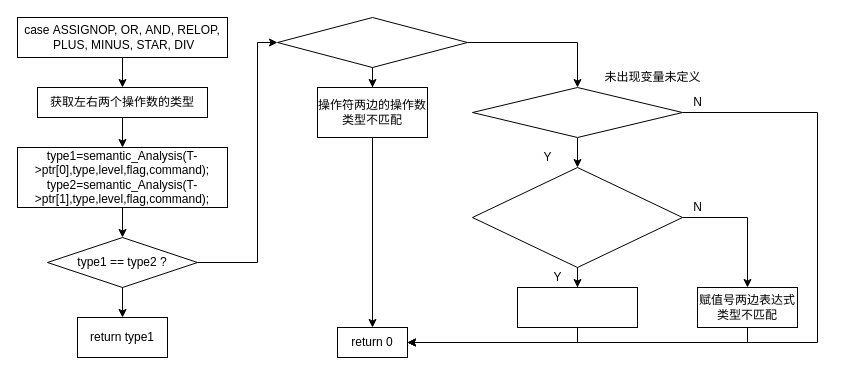
Image size: 843x375. Some labels were removed from this diagram. Each missing label, with the centre of its shape:
(type1 != INT && type1 != FLOAT) || (T->ptr[0])->kind != ID ?: [577,217]
T->kind == ASSIGNOP ?: [372,42]
type1 != 0 && type2 != 0 ?: [577,112]
赋值号左边出现只有一个右值的表达式: [577,307]
